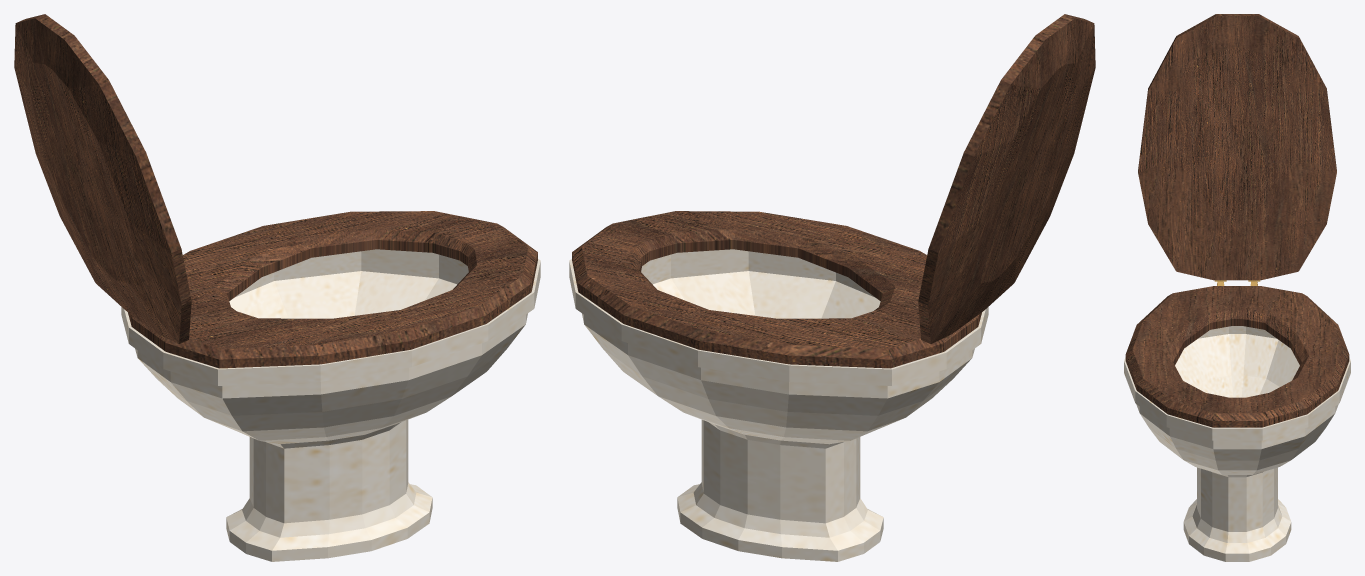
Rendered from 장애물_대변기.fbx.
The picture shows the model from 3 angles, left to right: view 1: azimuth 30°, elevation 25°; view 2: azimuth 150°, elevation 25°; view 3: azimuth 270°, elevation 25°; orthographic projection. The views are drawn at different scales.
Parts seen in each view (by area): view 1: 대변기; view 2: 대변기; view 3: 대변기.
Part boxes in pixels (x1,y1,x2,y2): 대변기: (14,14,540,561); 대변기: (569,14,1095,561); 대변기: (1124,14,1350,561).
Size of the model in its own units: 75.12 by 85.67 by 42.41.
